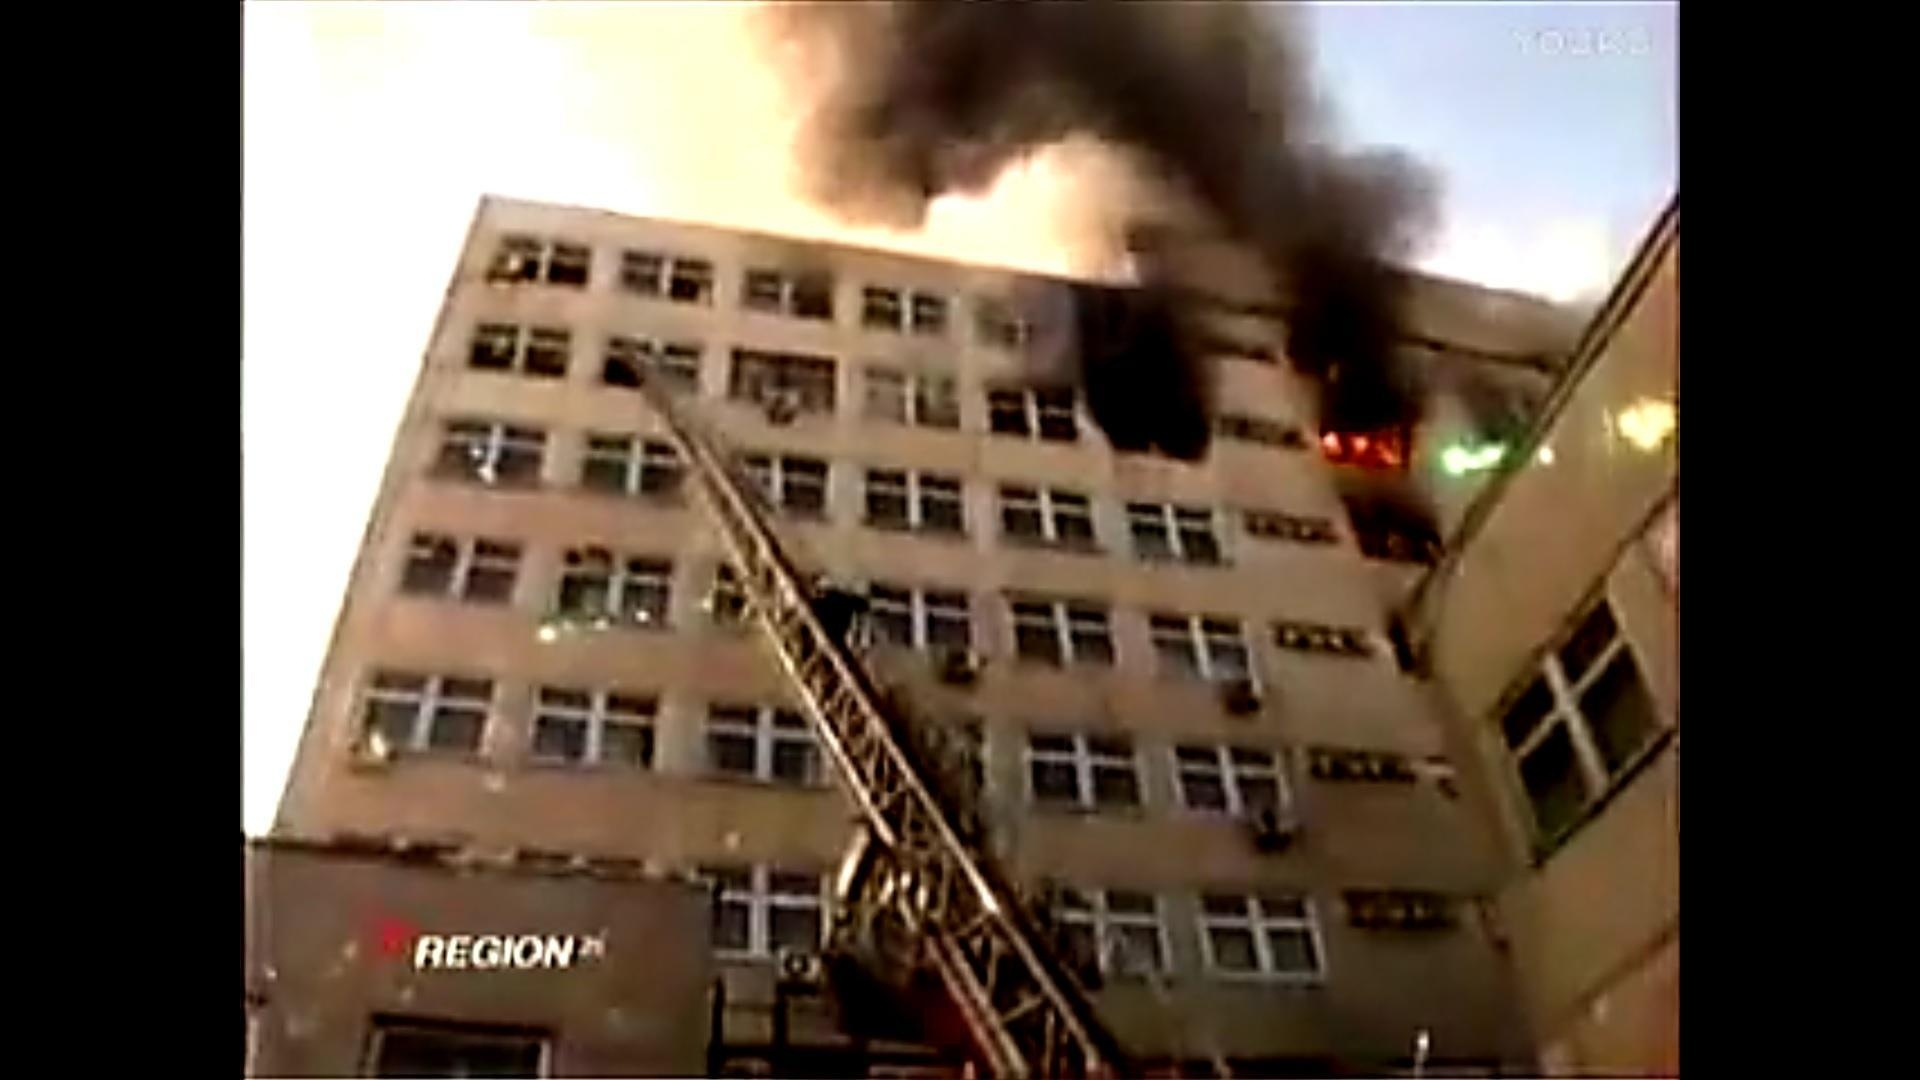fire: (1319, 419, 1407, 468)
